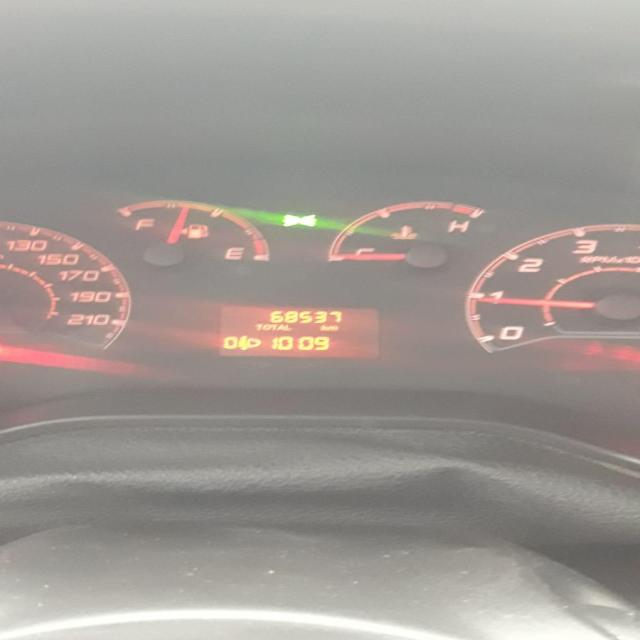odometer: (210, 303, 384, 357)
